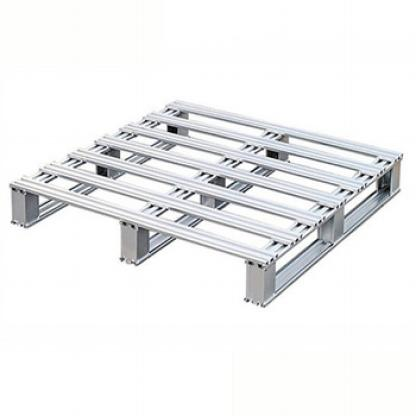BoxFace: (13, 97, 409, 311)
